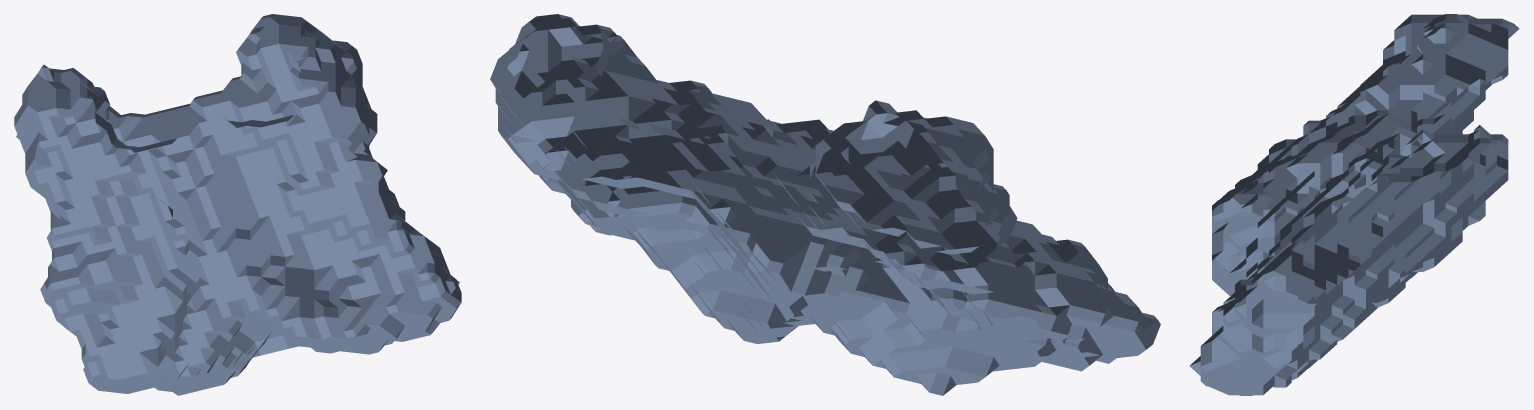
File: region_0001_A__anterior_thalamic_nucleus_.glb
3 views of the same model, side by side, from view 1: azimuth 30°, elevation 25°; view 2: azimuth 150°, elevation 25°; view 3: azimuth 270°, elevation 25° (orthographic). The views are drawn at different scales.
Parts seen in each view (by area): view 1: world; view 2: world; view 3: world.
Boxes of the visible parts, bbox=[...] form: world: bbox=[14, 14, 461, 395]; world: bbox=[490, 14, 1160, 395]; world: bbox=[1189, 14, 1519, 395].
Size of the model in its own units: 0.32 by 0.208 by 0.232.
